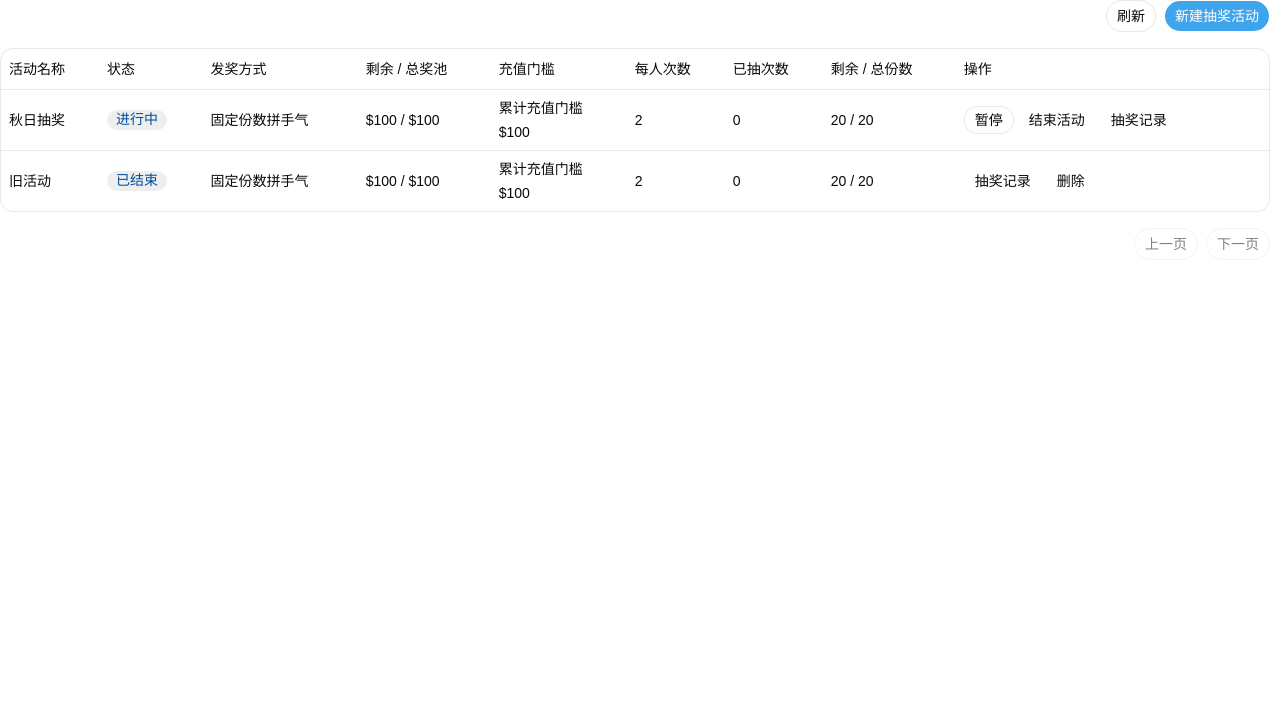
it: 抽奖界面 › root只能删除旧活动，取消不发请求，失败保留确认框后可重试
This screenshot has width=1280, height=720.
Click the button "删除". click: (1071, 180)
box: x1=1046 y1=166 x2=1096 y2=194
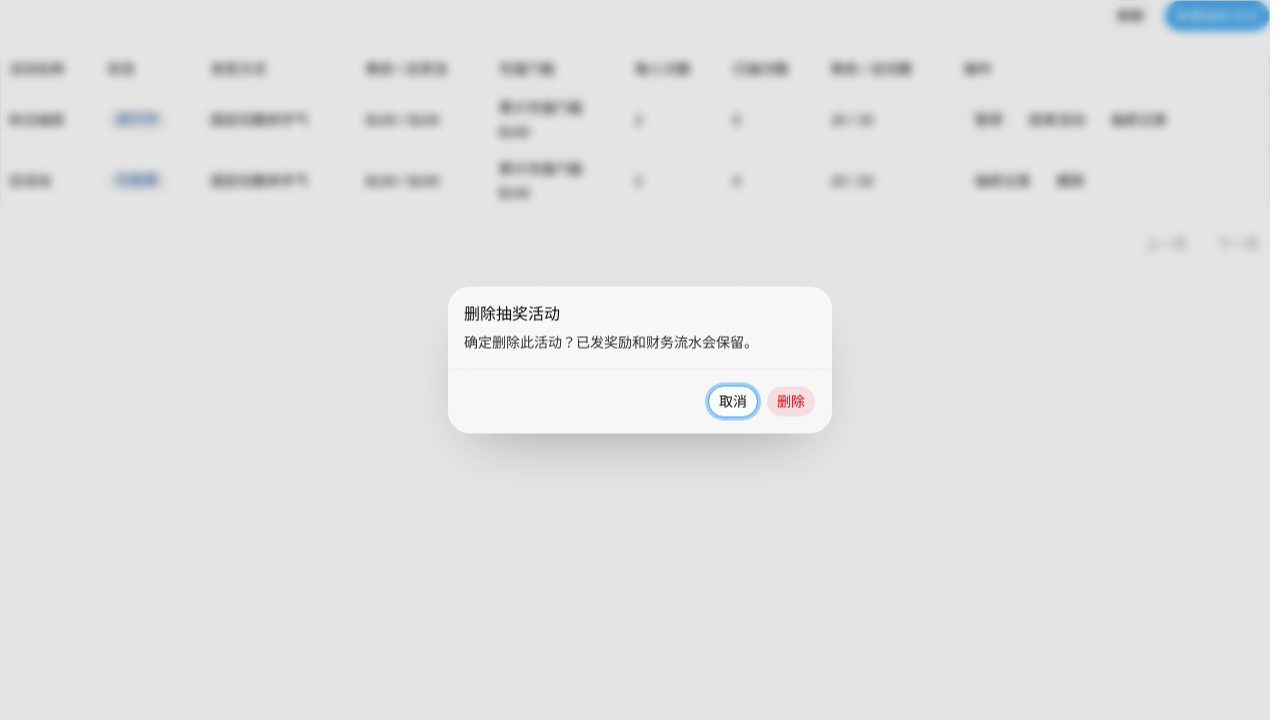
Click the button "取消". click: (733, 402)
box: x1=708 y1=386 x2=758 y2=418
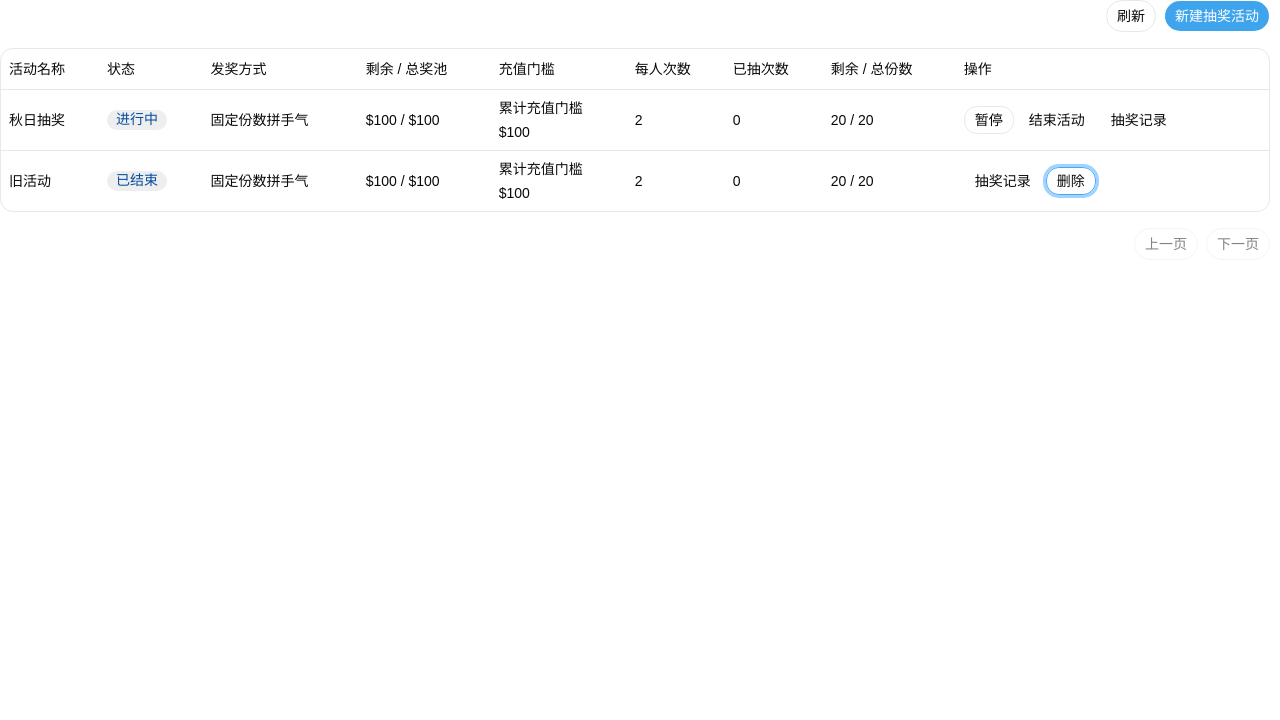
Click the button "删除". click: (1071, 180)
box: x1=1046 y1=166 x2=1096 y2=194
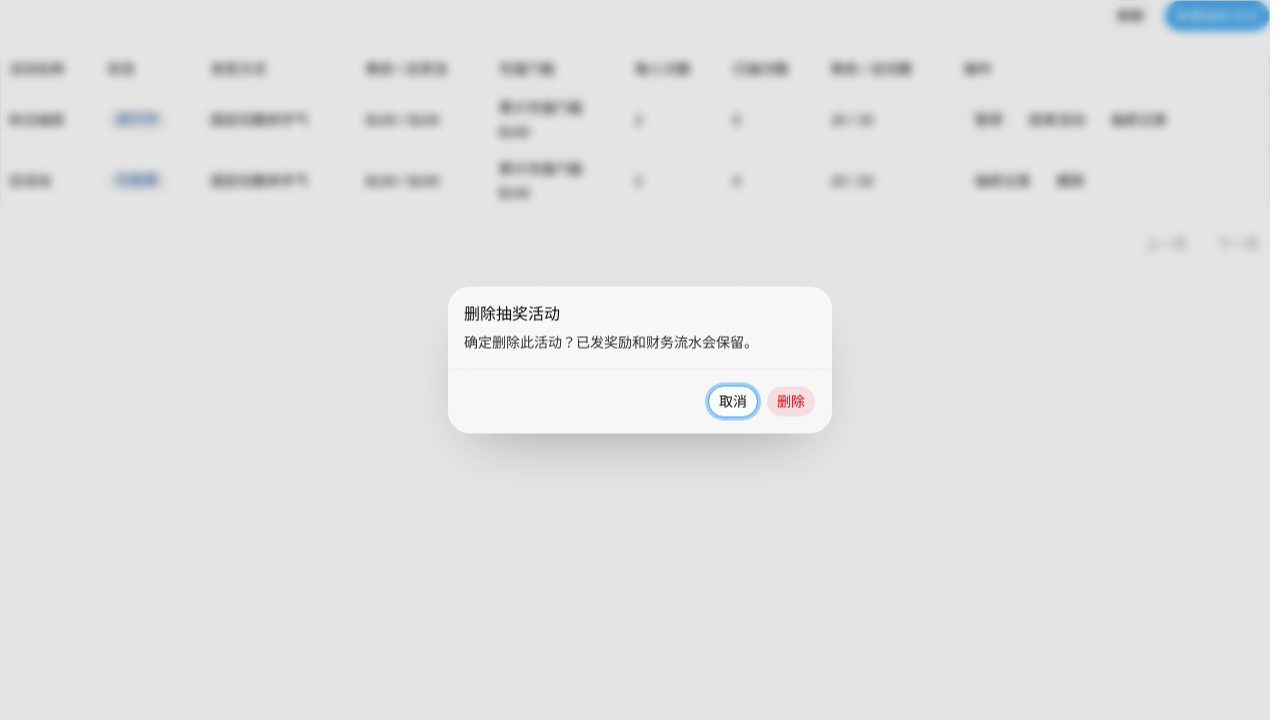
Click the button "删除". click: (791, 402)
box: x1=766 y1=386 x2=816 y2=418
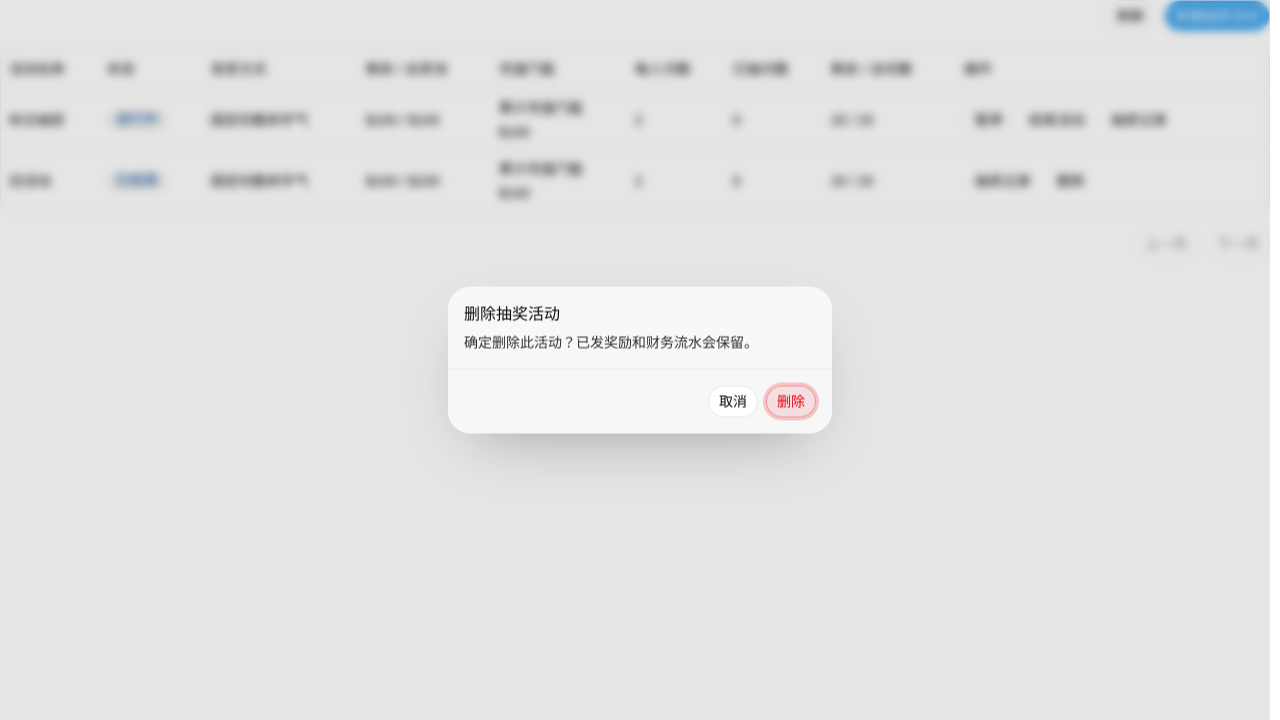
Result: the button "删除" is enabled
Result: the dialog is shown at x1=448 y1=286 x2=832 y2=434
Click the button "删除". click: (791, 402)
box: x1=766 y1=386 x2=816 y2=418
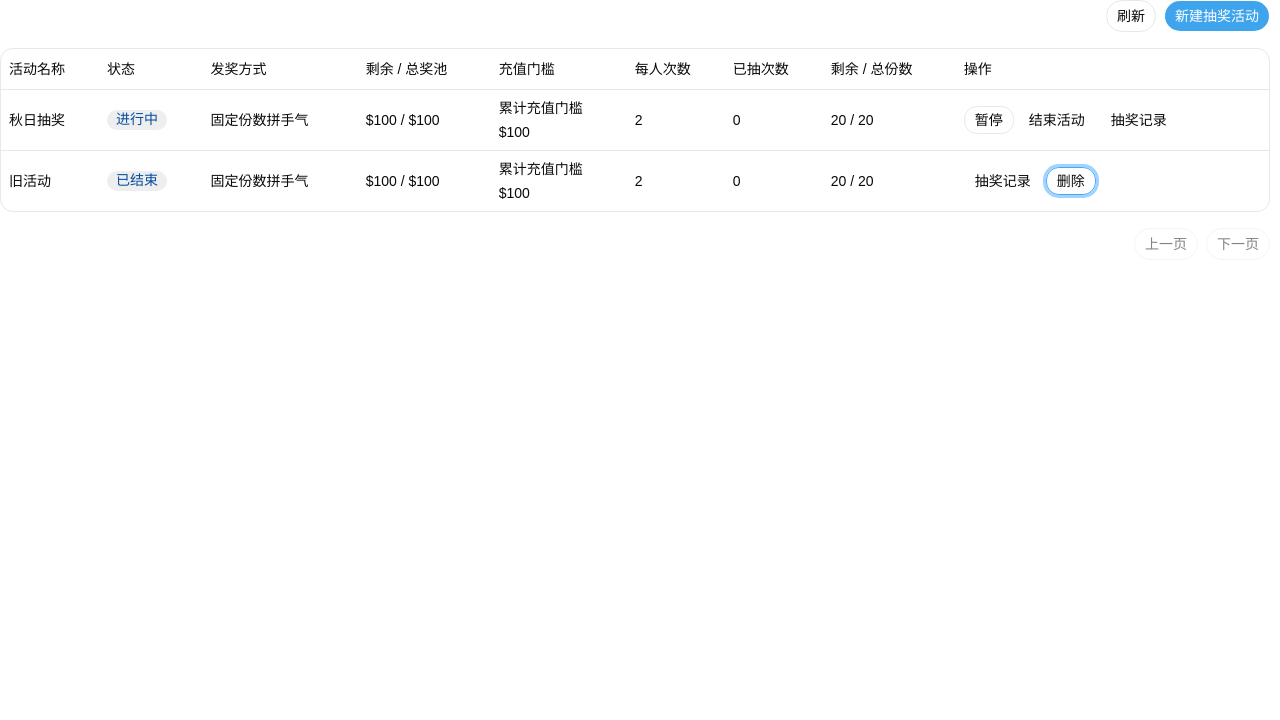
Result: the dialog is gone
